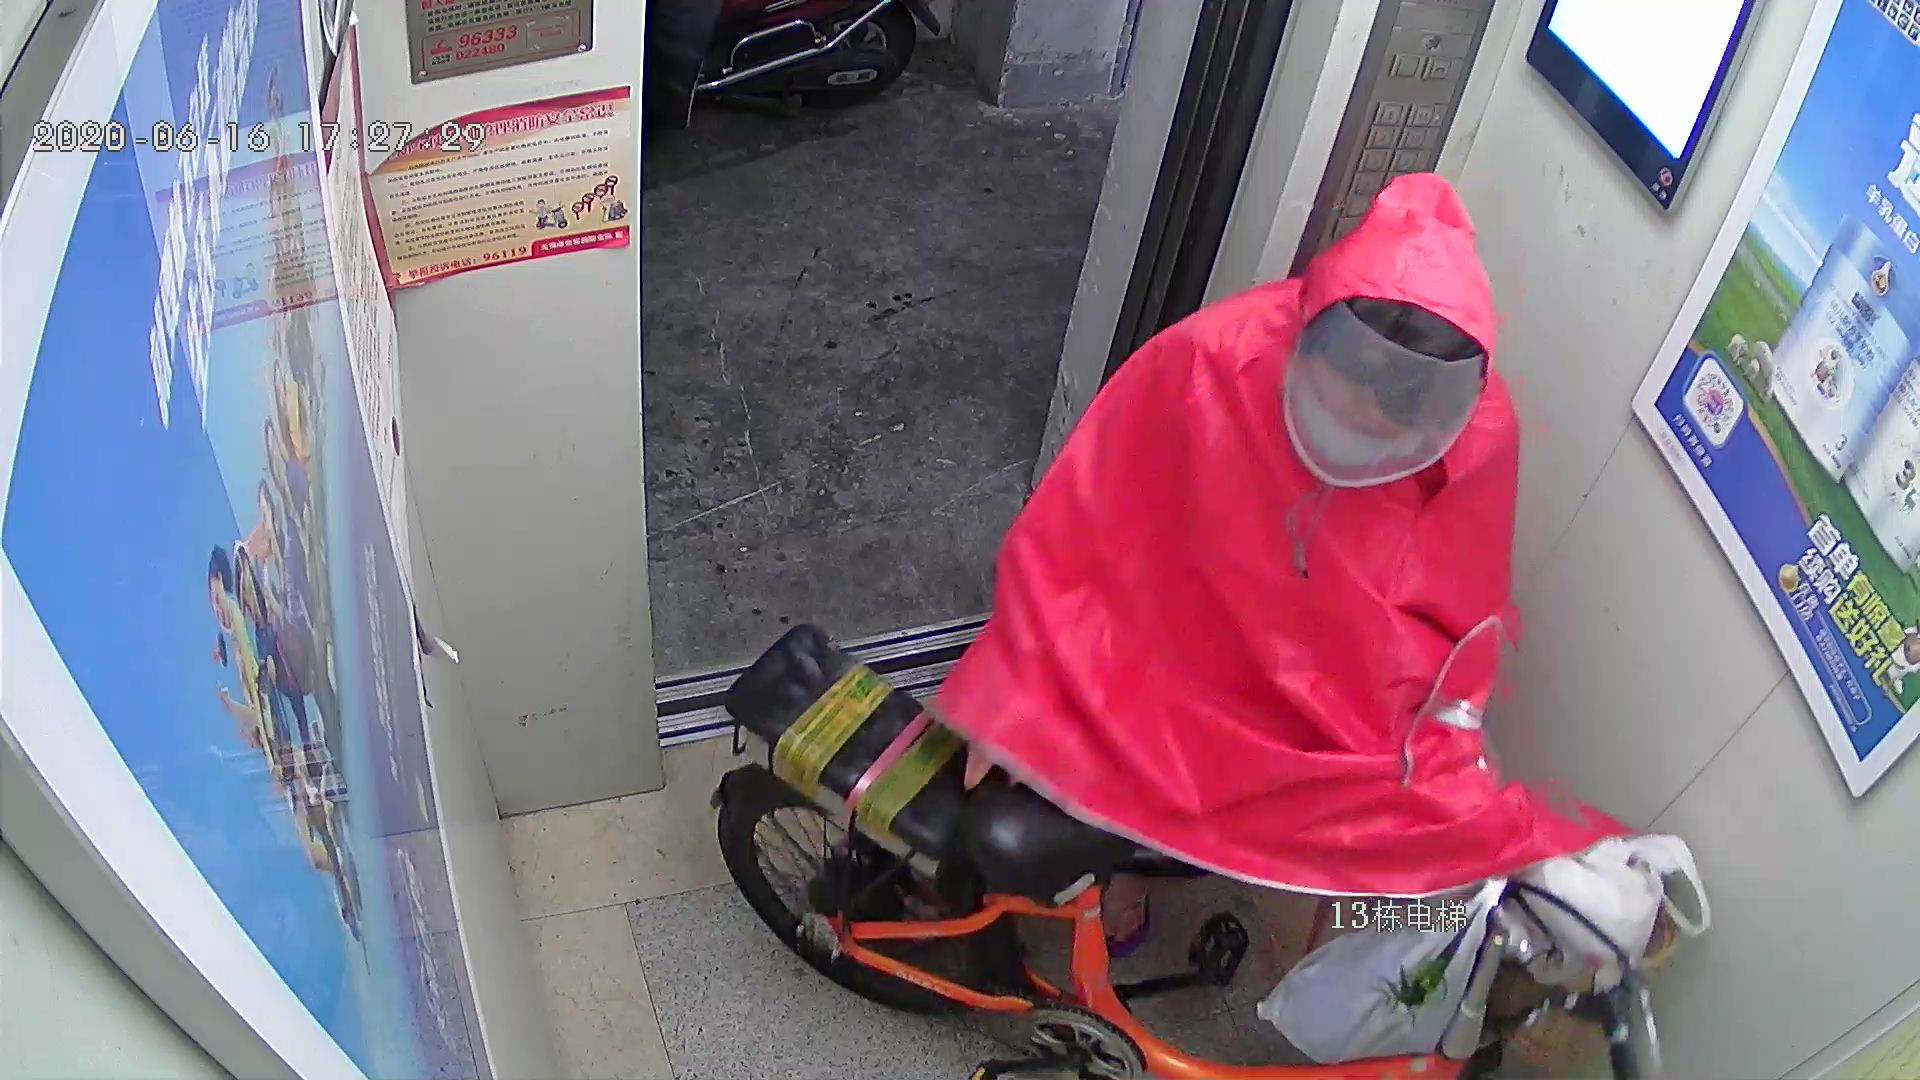Electric-bicycle: (712, 622, 1662, 1080)
